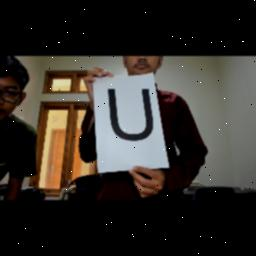u: (102, 82, 162, 148)
